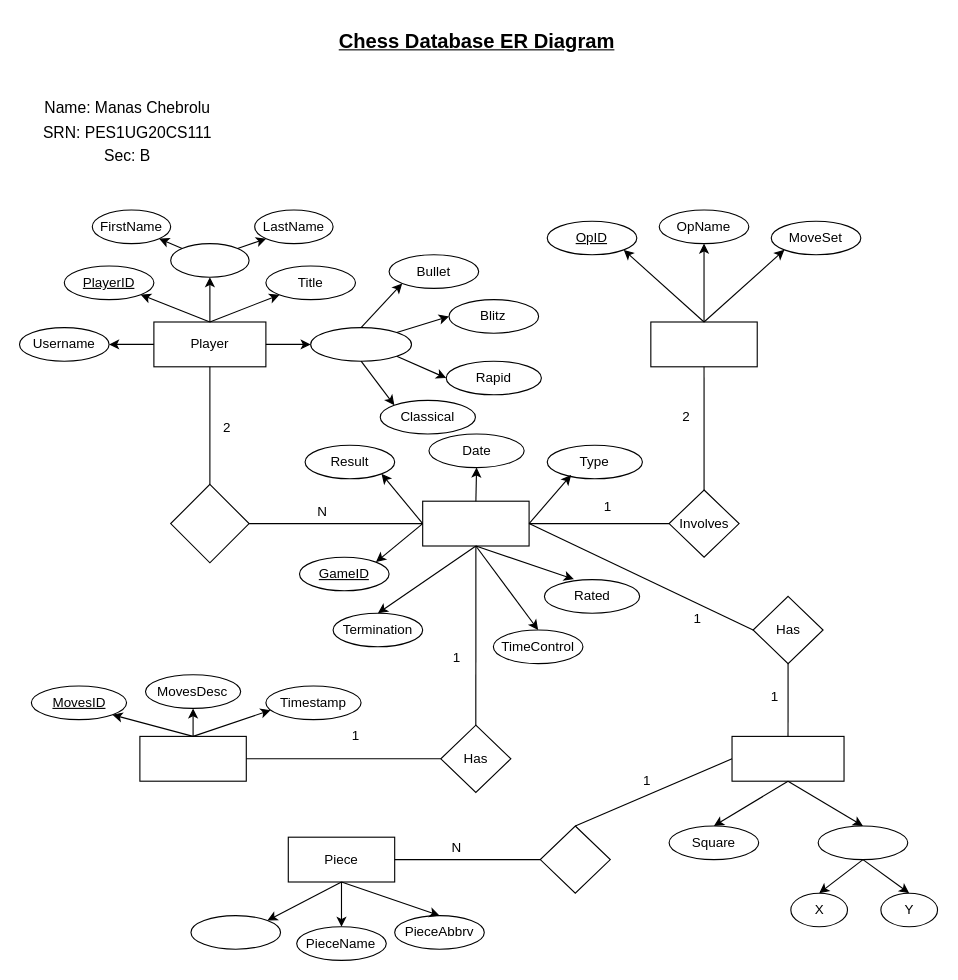
Some shapes in this 958 by 980 pixel diagram are drawn without their labels. Here are the shapes that lost their labels. From the top down, the centre of each, then its label:
At point (209, 259): "Name".
At point (360, 343): "Rating".
At point (703, 344): "Opening".
At point (209, 523): "Participate".
At point (475, 523): "Game".
At point (192, 758): "Moves".
At point (787, 758): "Board".
At point (574, 859): "Uses".
At point (862, 842): "Coordinates".
At point (235, 931): "PieceID".
